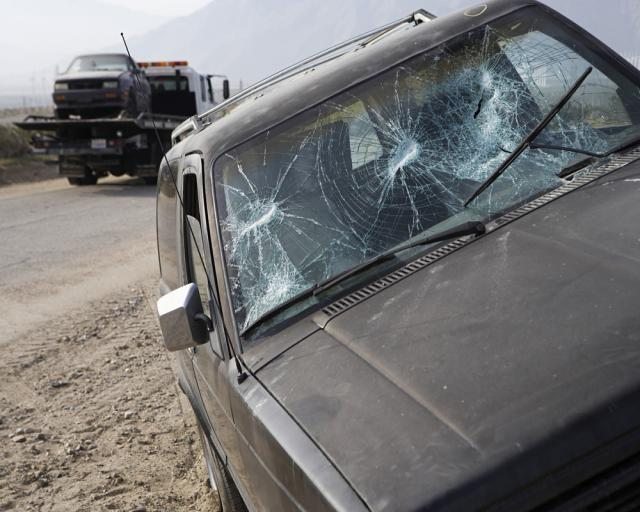glass shatter: (212, 5, 640, 342)
